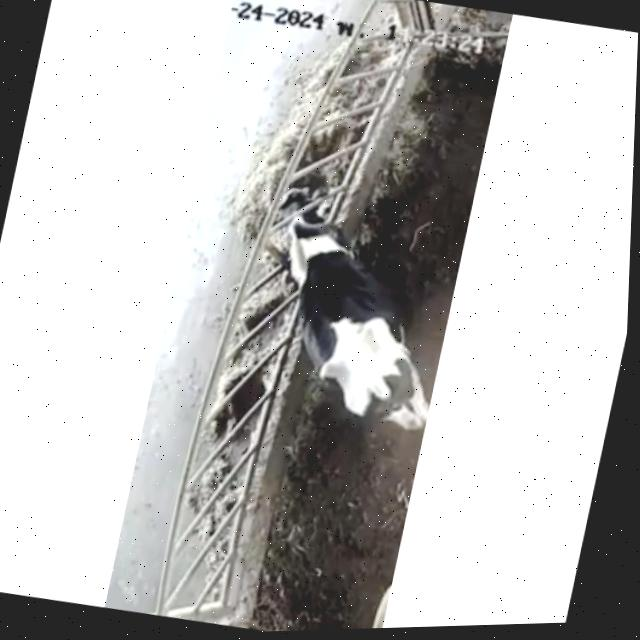eat: (231, 161, 372, 284)
